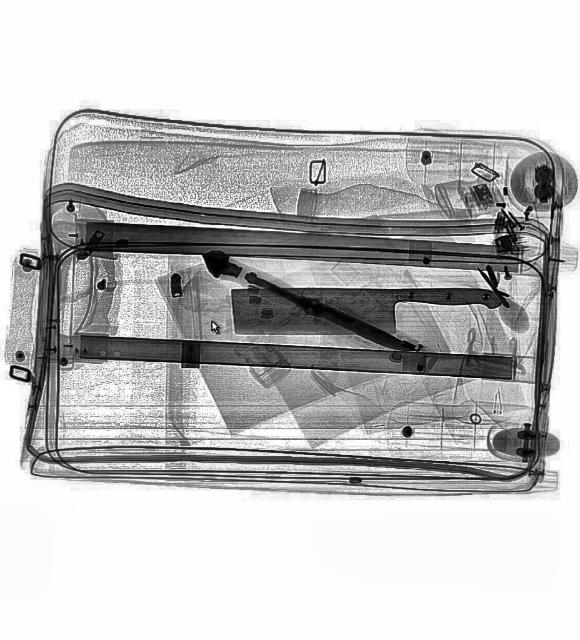Knife: (241, 268, 417, 360), (231, 285, 502, 339)
